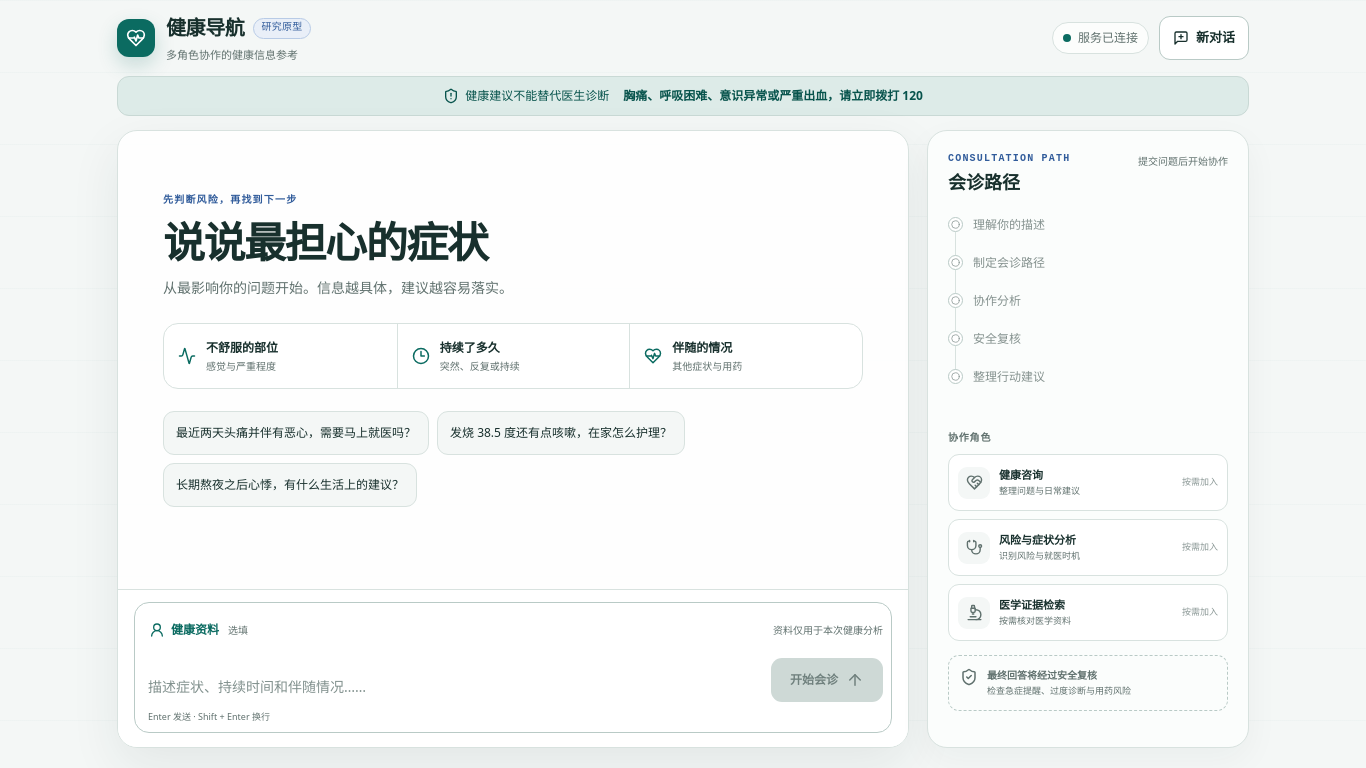
Test: health consultation entry › fills an example into the focused composer without sending it
Expected: the heading "说说最担心的症状" is shown, [163,220,487,266]
What coordinates should you click on to do the following:
click the button "最近两天头痛并伴有恶心，需要马上就医吗？"
I would click on:
 (296, 433)
Its box is [163,411,429,455].
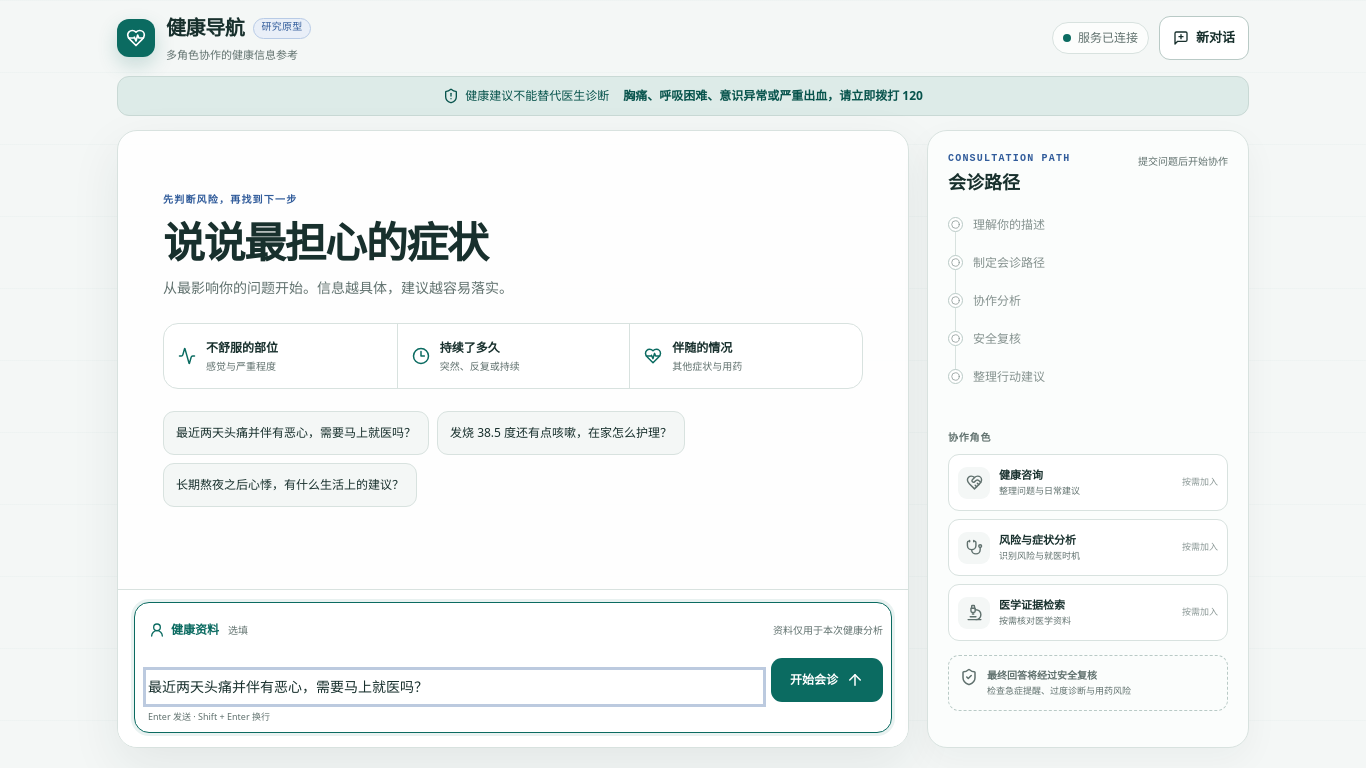
Expected: the text box named "描述你的症状或健康问题" holds "最近两天头痛并伴有恶心，需要马上就医吗？", [148,672,761,702]
